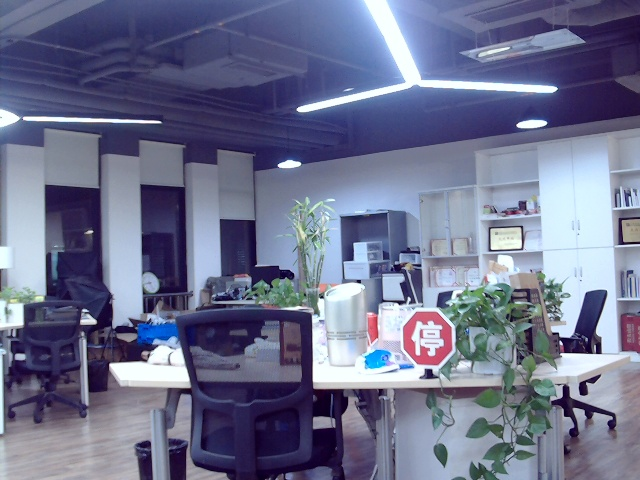stop: (408, 319, 442, 358)
